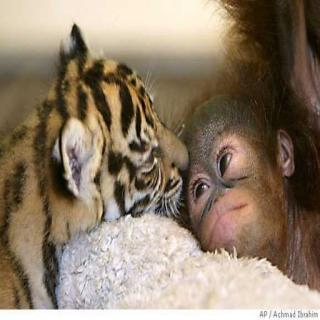Tiger: (0, 33, 184, 258)
